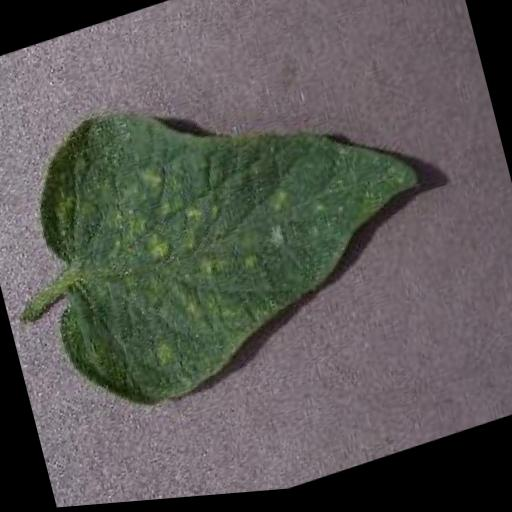Spider Mites: (10, 24, 454, 434)
